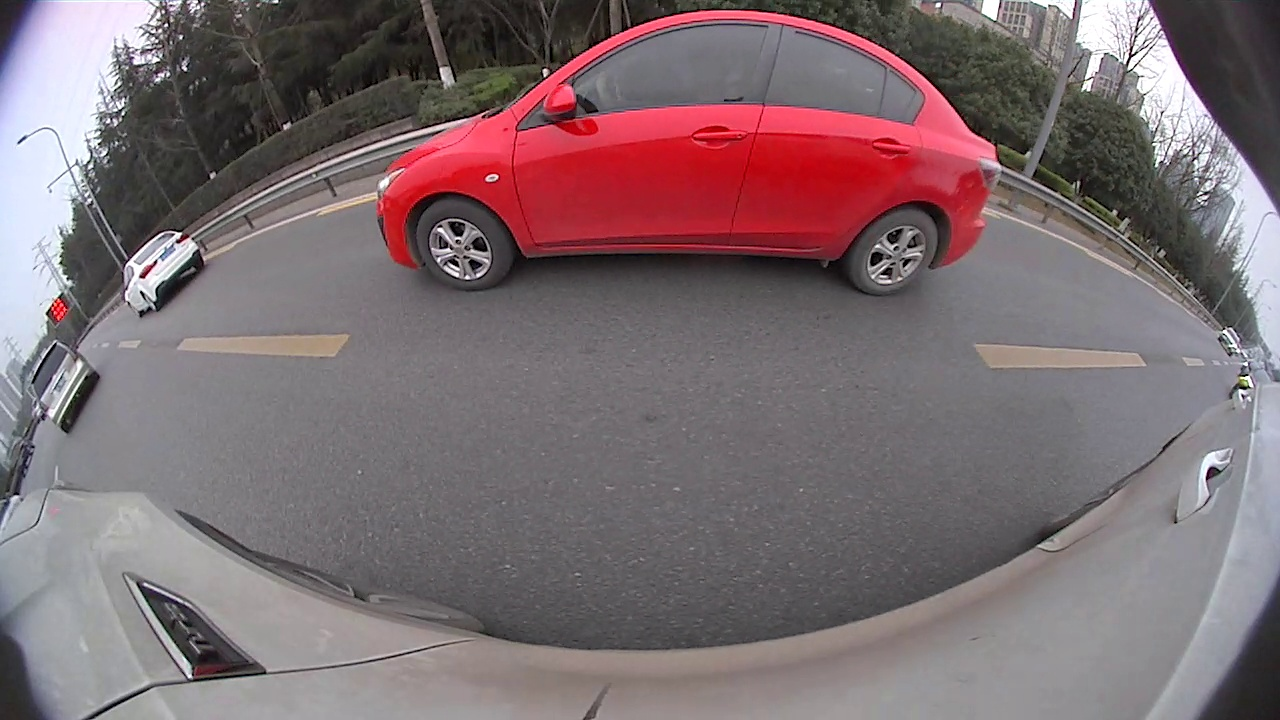car: (374, 8, 1004, 298), (121, 228, 207, 319), (29, 339, 102, 433), (1217, 324, 1242, 357)
front: (414, 202, 507, 292)
rear: (852, 210, 934, 293)
